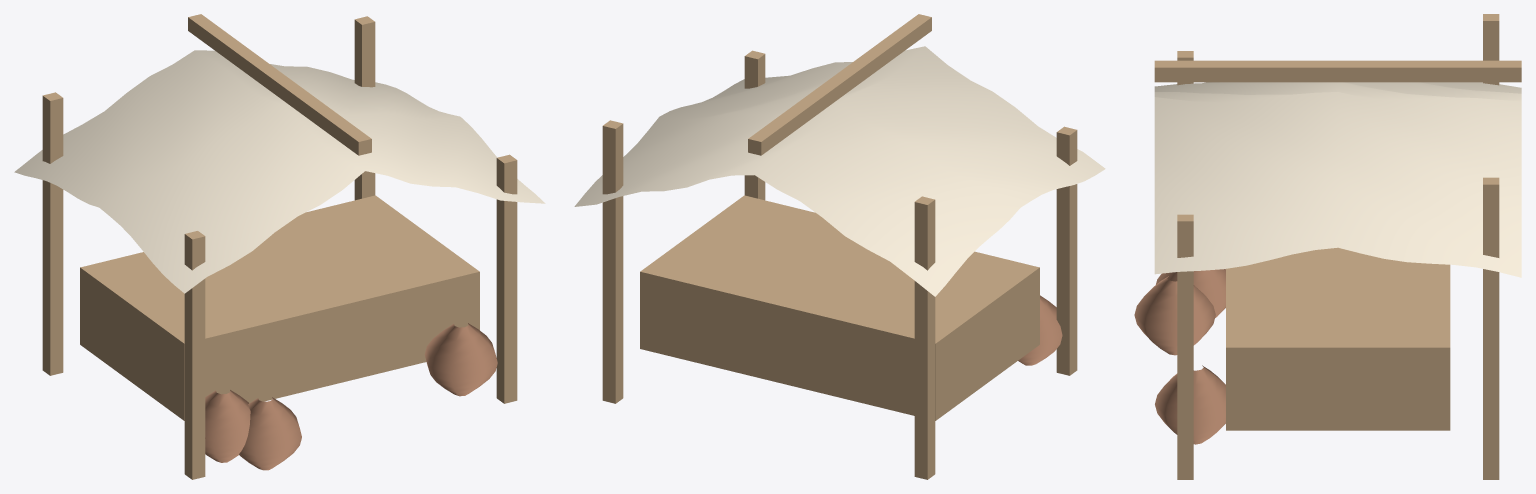
File: bazaar_stall_draped.glb
3 renders of one model, left to right at view 1: azimuth 30°, elevation 25°; view 2: azimuth 150°, elevation 25°; view 3: azimuth 270°, elevation 25°, orthographic. The views are drawn at different scales.
Bounding box in the file's own units: 4.4 × 3.63 × 3.8.
